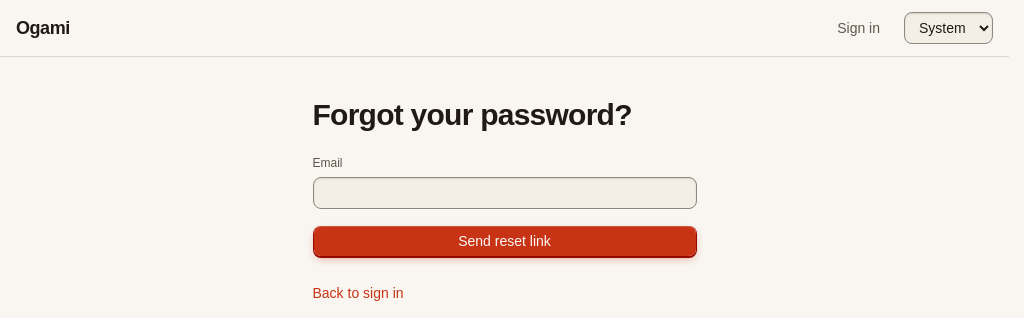
Scenario: ForgotPasswordPage › sends the email and shows the same neutral message
Type "ada@example.com" into the field labelled "Email" at x=504, y=193, box [312,177,696,209]
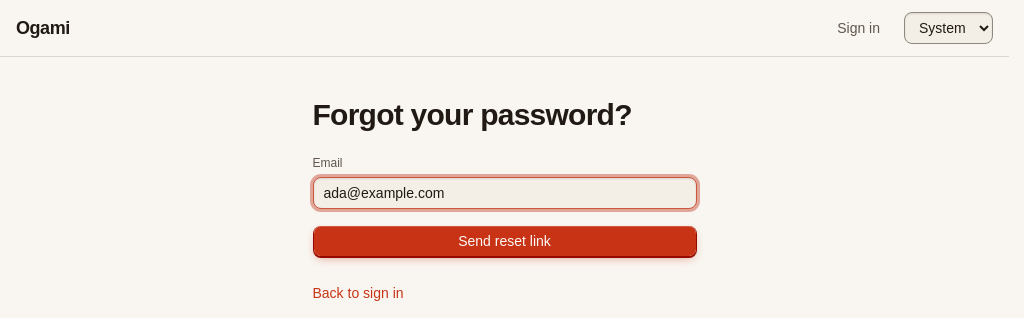
Click the button "Send reset link" at x=504, y=241, box [312,225,696,257]
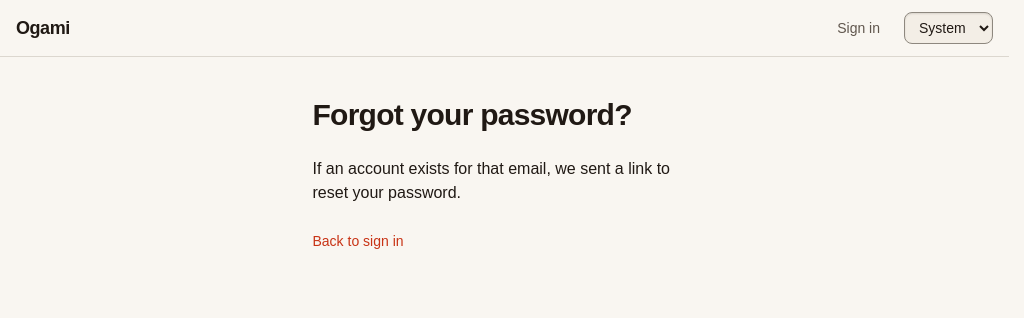
Check: the text "If an account exists for that email, we sent a link to reset your password." is shown, box [312,157,696,205]
